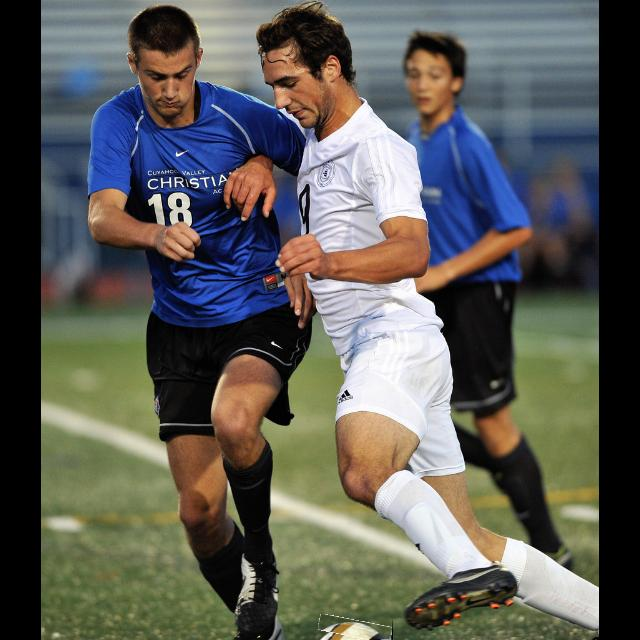Football: (318, 617, 393, 640)
